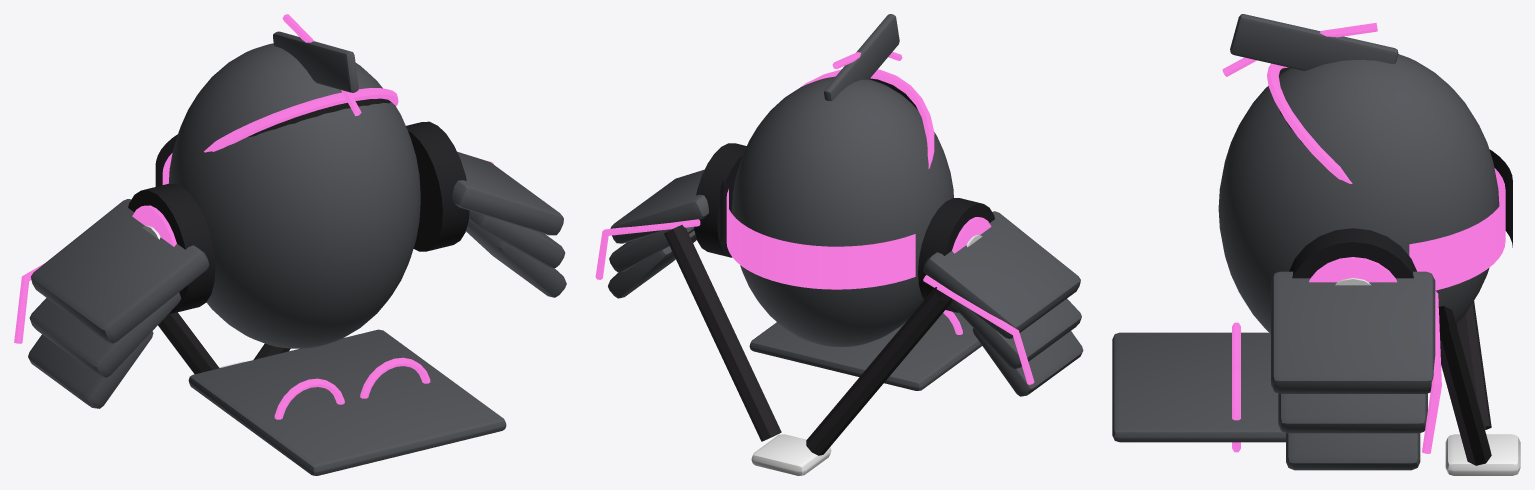
Rendered from mc_kit.glb.
3 views of the same model, side by side, from view 1: azimuth 30°, elevation 25°; view 2: azimuth 150°, elevation 25°; view 3: azimuth 270°, elevation 25° (orthographic). The views are drawn at different scales.
Parts seen in each view (by area): view 1: HELMET, MANTLE; view 2: HELMET, MANTLE; view 3: HELMET, MANTLE.
Part boxes in pixels (left/top/right/bottom): HELMET: left=128, top=14, right=469, bottom=348; MANTLE: left=14, top=88, right=566, bottom=475; HELMET: left=694, top=14, right=994, bottom=347; MANTLE: left=595, top=69, right=1083, bottom=475; HELMET: left=1218, top=14, right=1512, bottom=333; MANTLE: left=1112, top=63, right=1520, bottom=475.
Size of the model in its own units: 0.4052 by 0.3311 by 0.273.
